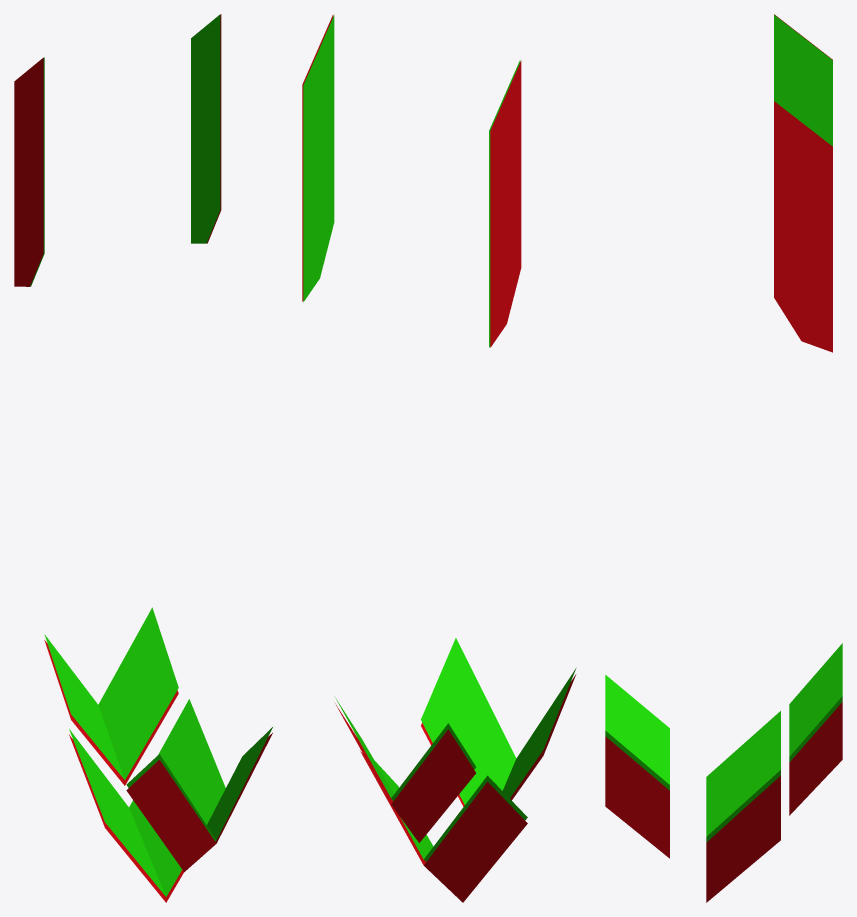
File: PrototypeRemakeWindows.fbx
3 renders of one model, left to right at view 1: azimuth 30°, elevation 25°; view 2: azimuth 150°, elevation 25°; view 3: azimuth 270°, elevation 25°, orthographic. The views are drawn at different scales.
Visible parts, largest first — view 1: Window Base.002; view 2: Window Base.002; view 3: Window Base.002.
Boxes of the visible parts, x1,y1,x2,y2 form: Window Base.002: [14, 14, 272, 902]; Window Base.002: [302, 14, 576, 902]; Window Base.002: [605, 14, 842, 902].
Size of the model in its own units: 884 by 4005 by 1019.
